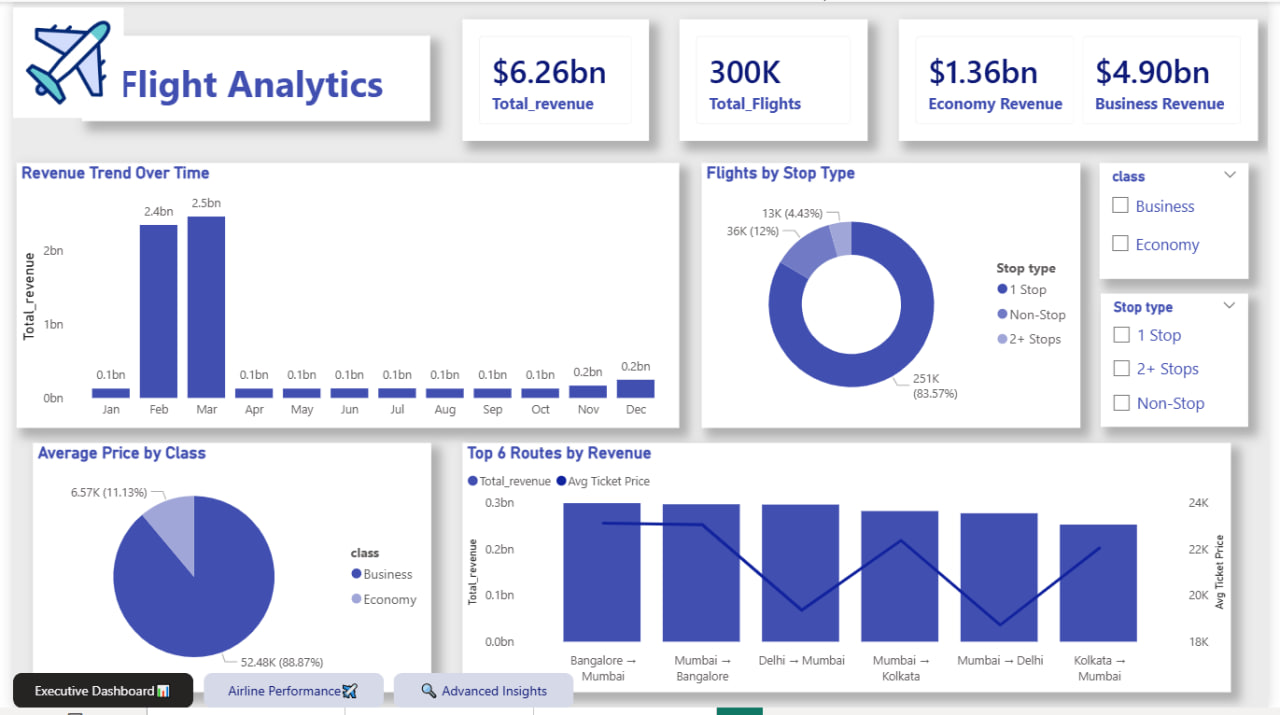

The dashboard page shown, as its layout file describes it:
{"tool":"powerbi","page":{"name":"Executive Dashboard📊","canvas":[1280,720],"ordinal":0},"visuals":[{"type":"cardVisual","fields":{"Data":["DAX measures.Total_Flight"]},"box":[680,18,192,124],"z":0},{"type":"cardVisual","fields":{"Data":["DAX measures.Economy Revenue","DAX measures.Business Revenue"]},"box":[904,18,366,124],"z":1000},{"type":"cardVisual","fields":{"Data":["DAX measures.Total_revenue"]},"box":[458,18,190,124],"z":2000},{"type":"clusteredColumnChart","title":"Revenue Trend Over Time","fields":{"Category":["dim date.Month name"],"Y":["DAX measures.Total_revenue"]},"box":[4,164,676,270],"z":3000},{"type":"donutChart","title":"Flights by Stop Type","fields":{"Category":["flights.N Stop "],"Y":["DAX measures.Total_Flights"]},"box":[702,164,386,270],"z":4000},{"type":"pieChart","title":"Average Price by Class","fields":{"Category":["flights.class"],"Y":["DAX measures.Avg Ticket Price"]},"box":[20,450,406,254],"z":5000},{"type":"slicer","fields":{"Values":["flights.class"]},"box":[1108,164,152,118],"z":6000},{"type":"slicer","fields":{"Values":["flights.N Stop "]},"box":[1110,298,150,136],"z":7000},{"type":"lineClusteredColumnComboChart","title":"Top 6 Routes by Revenue","fields":{"Category":["flights.Route"],"Y":["DAX measures.Total_revenue"],"Y2":["DAX measures.Avg Ticket Price"]},"box":[458,450,784,254],"z":8000},{"type":"textbox","box":[70,35,355,87.5],"z":9000},{"type":"image","box":[0,0,112.5,123.5],"z":10000},{"type":"pageNavigator","box":[0,684,572,36],"z":11000}]}

Visuals, with their boxes on the page's 1280x720 design canvas (x1, y1, x2, y2). These are canvas units, not pixel positions in the 1280x715 screenshot, which may show the page scaled, cropped or inside an application window:
cardVisual - DAX measures.Total_Flight: region(680, 18, 872, 142)
cardVisual - DAX measures.Economy Revenue x DAX measures.Business Revenue: region(904, 18, 1270, 142)
cardVisual - DAX measures.Total_revenue: region(458, 18, 648, 142)
"Revenue Trend Over Time" clusteredColumnChart: region(4, 164, 680, 434)
"Flights by Stop Type" donutChart: region(702, 164, 1088, 434)
"Average Price by Class" pieChart: region(20, 450, 426, 704)
slicer - flights.class: region(1108, 164, 1260, 282)
slicer - flights.N Stop : region(1110, 298, 1260, 434)
"Top 6 Routes by Revenue" lineClusteredColumnComboChart: region(458, 450, 1242, 704)
textbox: region(70, 35, 425, 122)
image: region(0, 0, 112, 124)
pageNavigator: region(0, 684, 572, 720)
